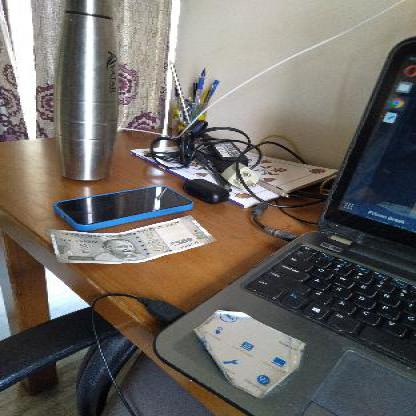New500Front: (52, 214, 215, 263)
